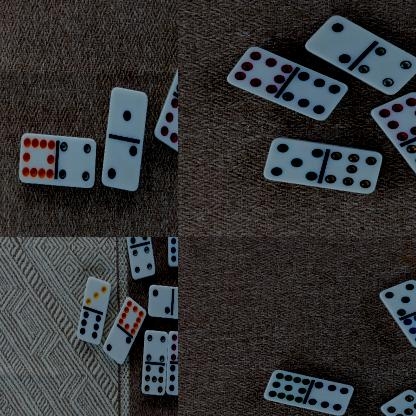pip-1: (108, 88, 148, 140), (172, 287, 178, 321)
pip-10: (20, 134, 57, 188), (118, 298, 147, 338)
pip-11: (264, 370, 311, 404)
pip-2: (306, 15, 370, 65), (102, 139, 142, 193), (104, 328, 133, 366), (148, 286, 172, 318)
pip-3: (84, 279, 112, 313)
pip-4: (358, 46, 416, 96), (58, 138, 96, 190), (131, 245, 156, 280), (144, 331, 168, 365)
pip-5: (264, 138, 326, 187), (380, 279, 416, 317), (124, 237, 149, 246)
pip-6: (284, 72, 349, 122), (308, 380, 356, 416), (78, 311, 104, 346), (166, 364, 178, 396)
pip-7: (324, 149, 383, 195), (381, 389, 416, 416), (142, 364, 167, 396)
pip-8: (227, 46, 294, 96), (370, 92, 416, 141), (156, 97, 178, 156), (168, 330, 178, 364)
pip-9: (404, 310, 416, 349), (168, 237, 178, 267)
